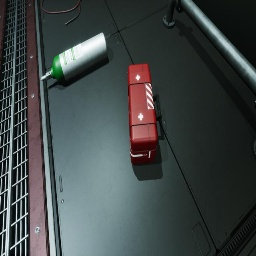0: (40, 32, 108, 83)
FirstAidBox ,: (128, 63, 162, 164)
